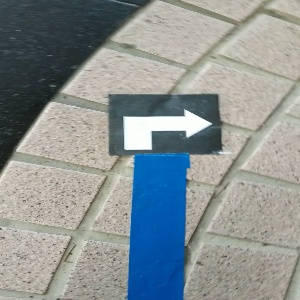right: (109, 94, 222, 153)
